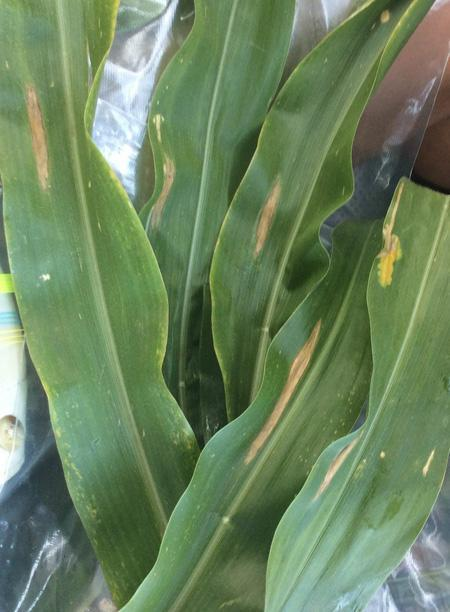Corn_Blight: (256, 309, 361, 503), (129, 103, 183, 249), (357, 159, 411, 287), (13, 80, 68, 193), (252, 170, 291, 277)
